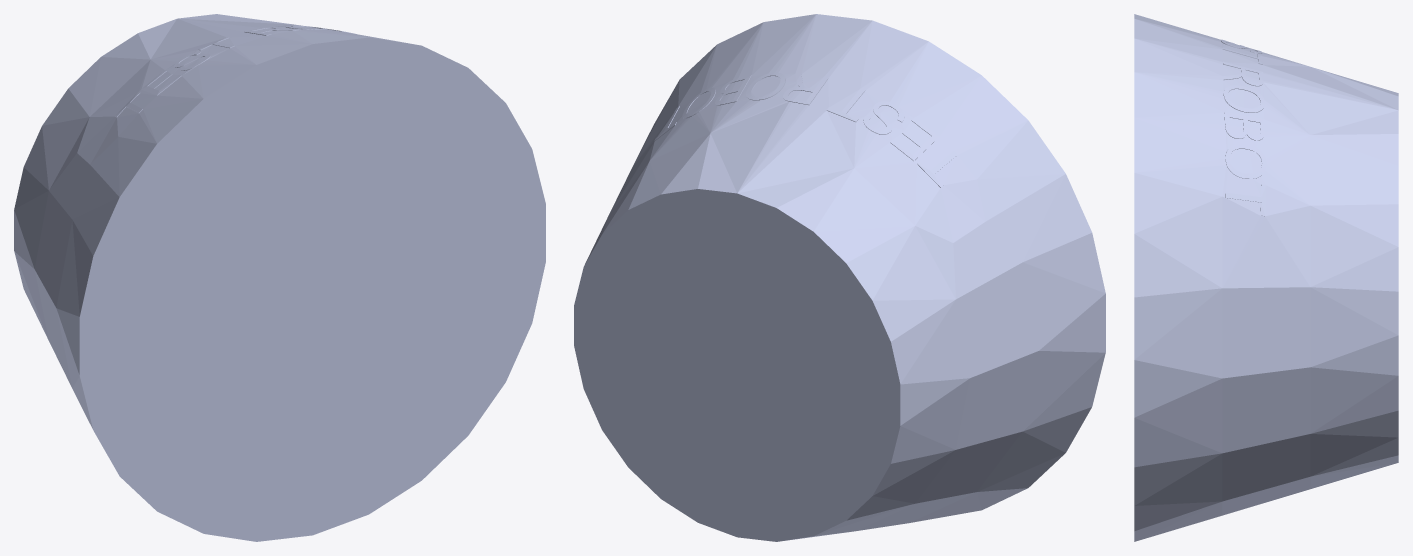
3 renders of one model, left to right at view 1: azimuth 30°, elevation 25°; view 2: azimuth 150°, elevation 25°; view 3: azimuth 270°, elevation 25°, orthographic. The views are drawn at different scales.
Visible parts, largest first — view 1: node0; view 2: node0; view 3: node0.
Part boxes in pixels (x1=…): node0: x1=14, y1=14, x2=545, y2=541; node0: x1=574, y1=14, x2=1105, y2=541; node0: x1=1134, y1=14, x2=1398, y2=541.
Size of the model in its own units: 0.0993 by 0.05 by 0.1.
